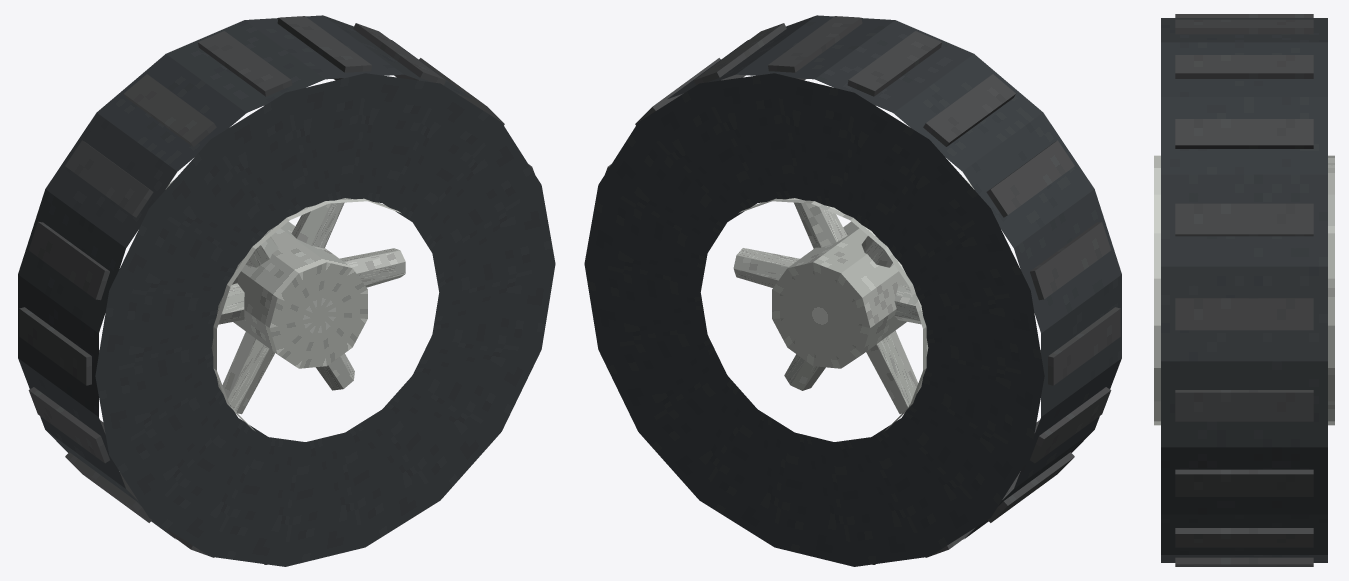
Rendered from wheel_small.glb.
3 views of the same model, side by side, from view 1: azimuth 30°, elevation 25°; view 2: azimuth 150°, elevation 25°; view 3: azimuth 270°, elevation 25° (orthographic). The views are drawn at different scales.
Visible parts, largest first — view 1: block_tire sidewall (×18), block_outer tire, block_raised tread (×9), block_hub, block_spoke (×5), block_rim wall; view 2: block_tire sidewall (×18), block_outer tire, block_raised tread (×9), block_hub, block_spoke (×5), block_rim wall; view 3: block_outer tire, block_raised tread (×10), block_rim wall (×2).
Part boxes in pixels (x1,y1,x2,y2): block_tire sidewall (×18): (95,73,555,566); block_outer tire: (18,15,471,539); block_raised tread (×9): (19,16,445,522); block_hub: (232,221,367,368); block_spoke (×5): (218,202,405,414); block_rim wall: (211,198,401,430); block_tire sidewall (×18): (584,73,1044,566); block_outer tire: (668,15,1121,539); block_raised tread (×9): (694,16,1120,522); block_hub: (772,221,907,368); block_spoke (×5): (733,202,921,414); block_rim wall: (738,198,928,430); block_outer tire: (1161,18,1327,562); block_raised tread (×10): (1175,14,1313,566); block_rim wall (×2): (1154,155,1334,425).
Size of the model in its own units: 0.254 by 0.2527 by 0.0832.
Materials: 1 (1 with a texture image).
